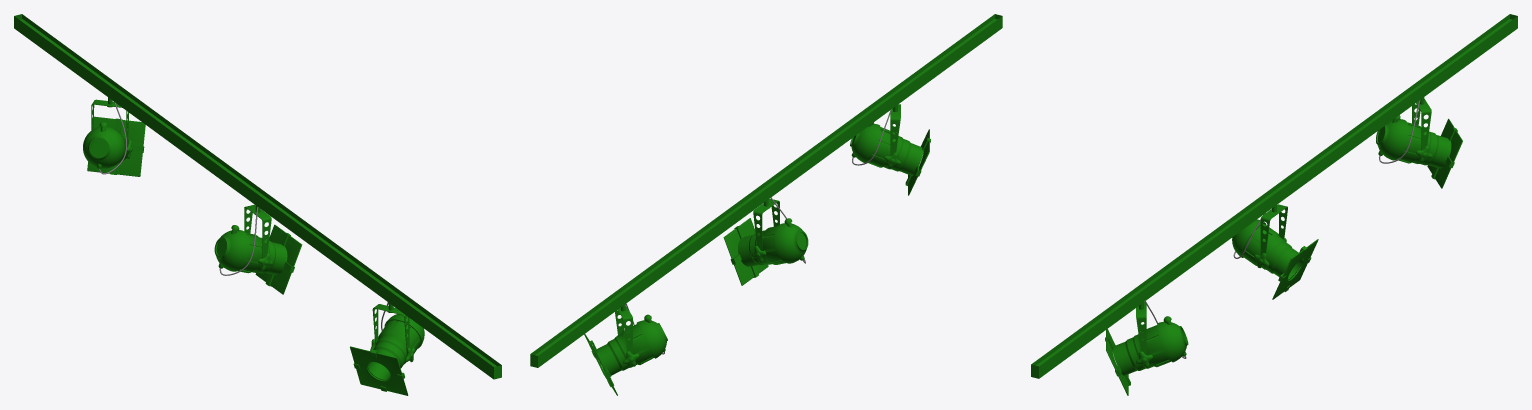
File: lights.fbx
The picture shows the model from 3 angles, left to right: view 1: azimuth 30°, elevation 25°; view 2: azimuth 150°, elevation 25°; view 3: azimuth 330°, elevation 25°; orthographic projection. The views are drawn at different scales.
Visible parts, largest first — view 1: lights; view 2: lights; view 3: lights.
Boxes of the visible parts, <box> form: lights: <box>14,14,501,395</box>; lights: <box>530,14,1002,395</box>; lights: <box>1031,14,1517,395</box>.
Bounding box in the file's own units: 0.4757 × 0.5637 × 5.
